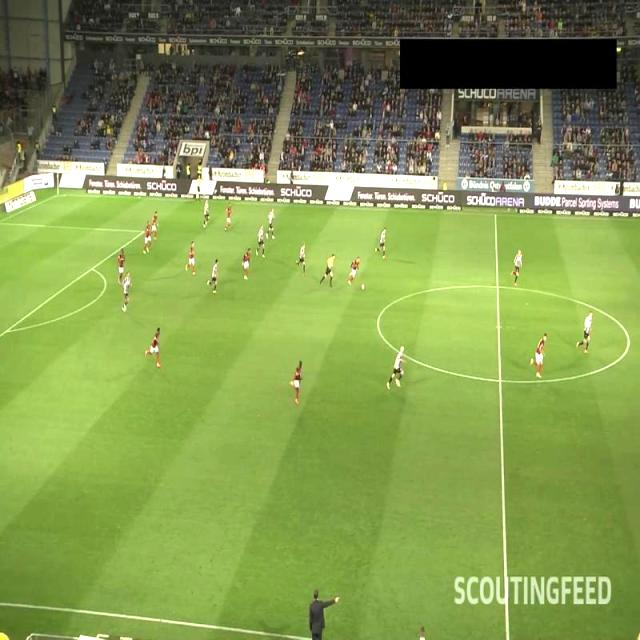bigarea_top_inner: (138, 226, 148, 237)
bottom_arc_area_intersection: (1, 325, 12, 336)
corner: (52, 188, 64, 199)
halfcircle_bottom: (494, 375, 506, 386)
halfcircle_top: (492, 281, 503, 292)
midline_top_intersection: (490, 210, 500, 220)
top_arc_area_intersection: (86, 264, 98, 274)
